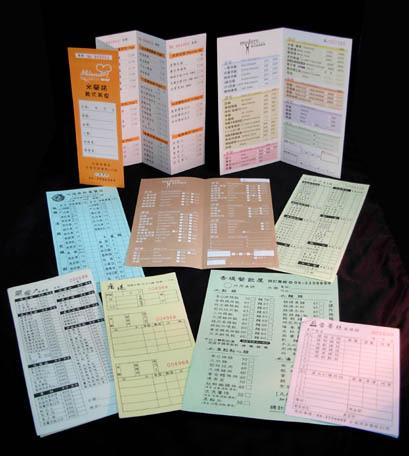cardboard: (96, 31, 205, 173), (67, 31, 165, 186), (127, 177, 276, 268), (274, 174, 368, 281), (216, 29, 283, 174), (45, 186, 143, 281)
paper: (183, 270, 337, 419), (217, 28, 350, 177), (8, 271, 115, 435), (101, 272, 193, 417), (285, 318, 398, 436)
